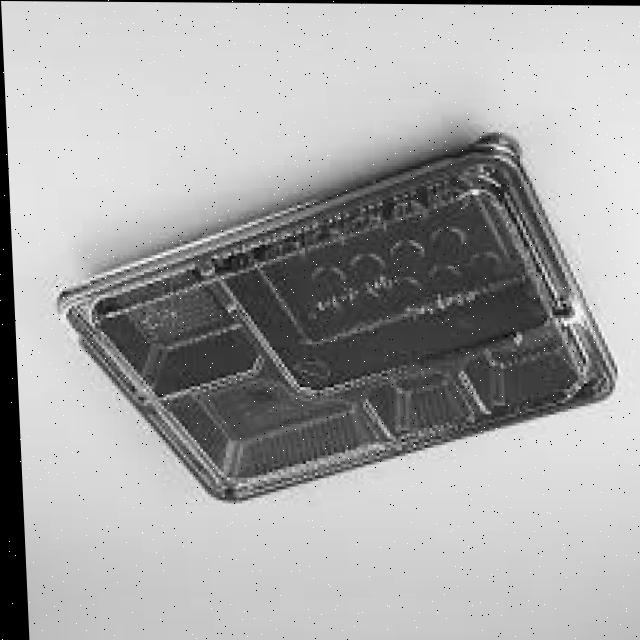disposable: (39, 125, 628, 520)
